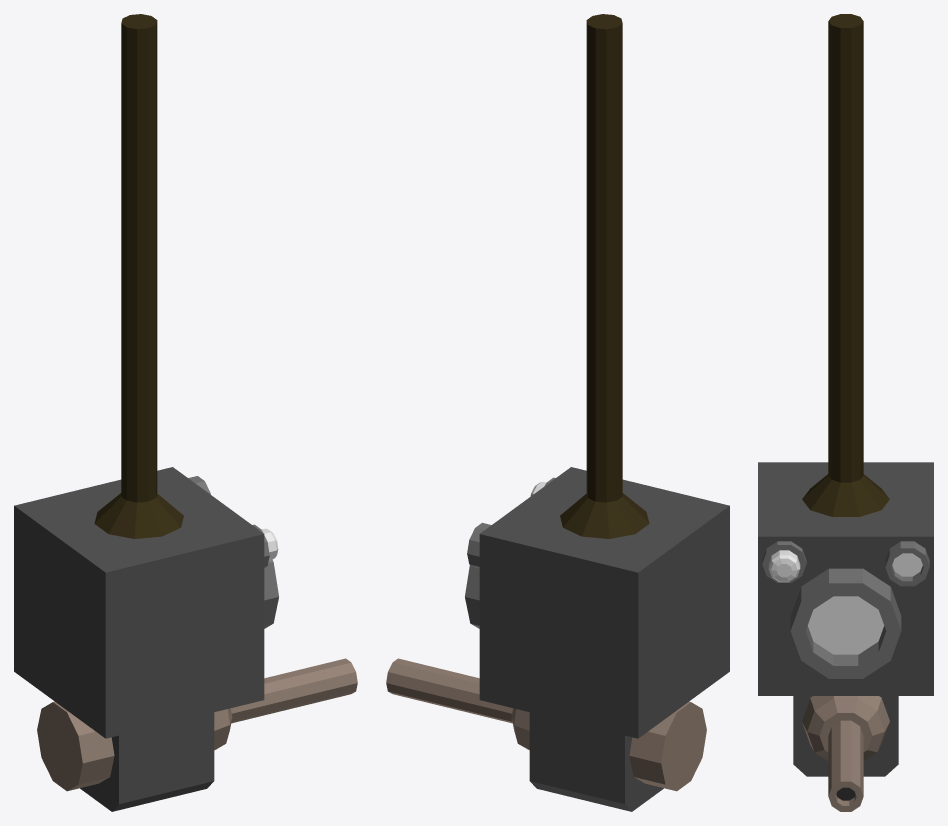
Rendered from spotlight.fbx.
The picture shows the model from 3 angles, left to right: view 1: azimuth 30°, elevation 25°; view 2: azimuth 150°, elevation 25°; view 3: azimuth 270°, elevation 25°; orthographic projection. The views are drawn at different scales.
Visible parts, largest first — view 1: Cube, Cylinder, Cube.001, Cylinder.003, Cylinder.004, Cylinder.001; view 2: Cube, Cylinder, Cube.001, Cylinder.003, Cylinder.004, Cylinder.001; view 3: Cube, Cylinder, Cylinder.001, Cylinder.003, Cube.001, Cylinder.004, Cylinder.005, Cylinder.002.
Part boxes in pixels (x1,y1,x2,y2): Cube: (14,467,264,738); Cylinder: (94,14,183,538); Cube.001: (80,712,214,811); Cylinder.003: (37,701,232,791); Cylinder.004: (231,658,357,723); Cylinder.001: (264,560,278,628); Cube: (479,467,729,738); Cylinder: (560,14,649,538); Cube.001: (529,712,663,811); Cylinder.003: (511,701,706,791); Cylinder.004: (386,658,512,723); Cylinder.001: (465,565,479,628); Cube: (758,462,933,695); Cylinder: (802,14,889,516); Cylinder.001: (790,568,901,678); Cylinder.003: (802,696,889,760); Cube.001: (793,696,898,776); Cylinder.004: (828,720,863,811); Cylinder.005: (885,541,929,586); Cylinder.002: (762,541,806,582).
Size of the model in its own units: 364 by 200 by 920.
